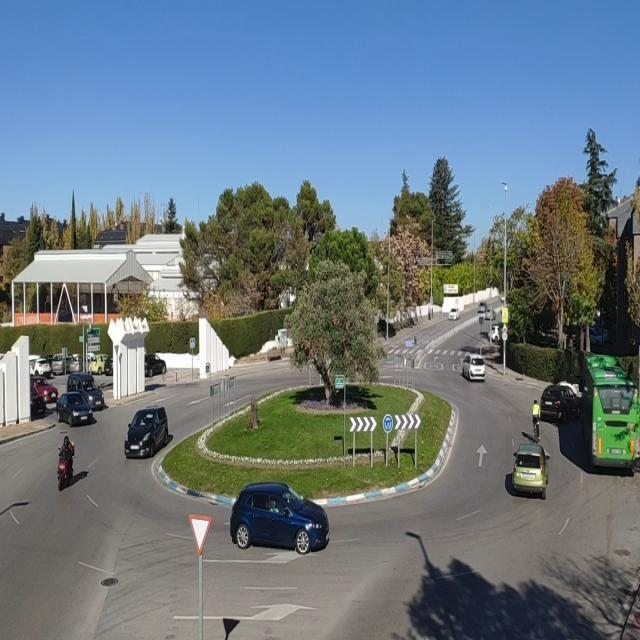Bus: (580, 353, 640, 472)
Car: (228, 483, 329, 553), (124, 406, 171, 458), (512, 444, 550, 500), (540, 383, 582, 422), (67, 372, 104, 410), (56, 393, 94, 426), (30, 376, 60, 403), (462, 353, 486, 381), (144, 354, 167, 377), (30, 386, 46, 419), (89, 354, 109, 375), (35, 358, 51, 378), (590, 326, 604, 346), (69, 354, 83, 373), (489, 323, 502, 343), (105, 357, 114, 375), (448, 308, 460, 320), (478, 302, 486, 314), (484, 311, 492, 321)
Cycle: (56, 448, 76, 492), (532, 415, 542, 443)
